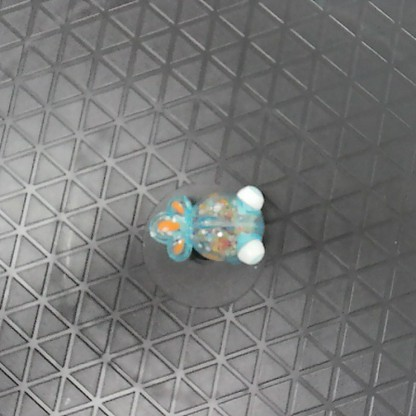bluefish: (147, 186, 269, 268)
